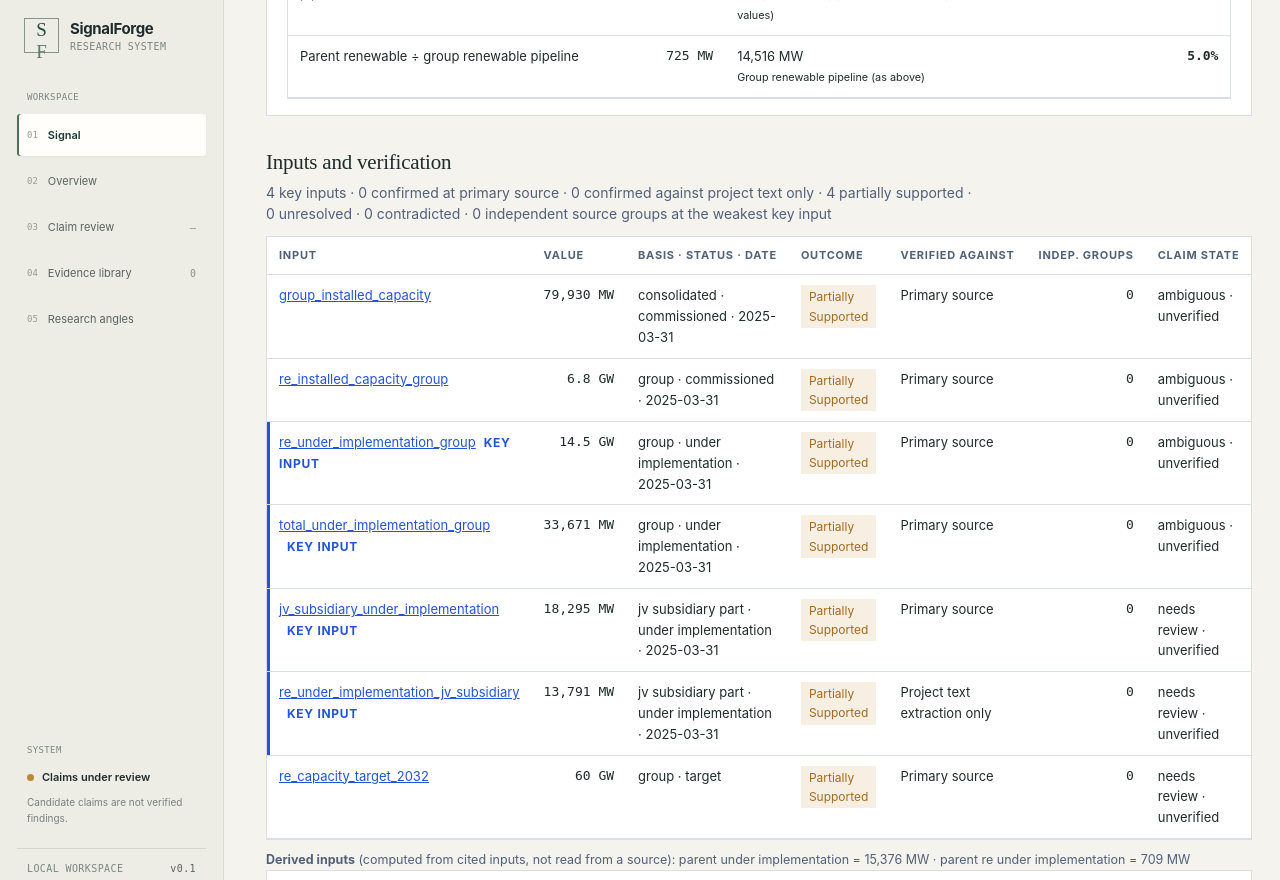
Test: Signal view › expands an input to its source citation and verification results
The image size is (1280, 880).
(page scrolled)
What coordinates should you click on to do the following:
click the button "re_under_implementation_group"
I would click on:
 (377, 442)
Its box is [279,432,476,453].
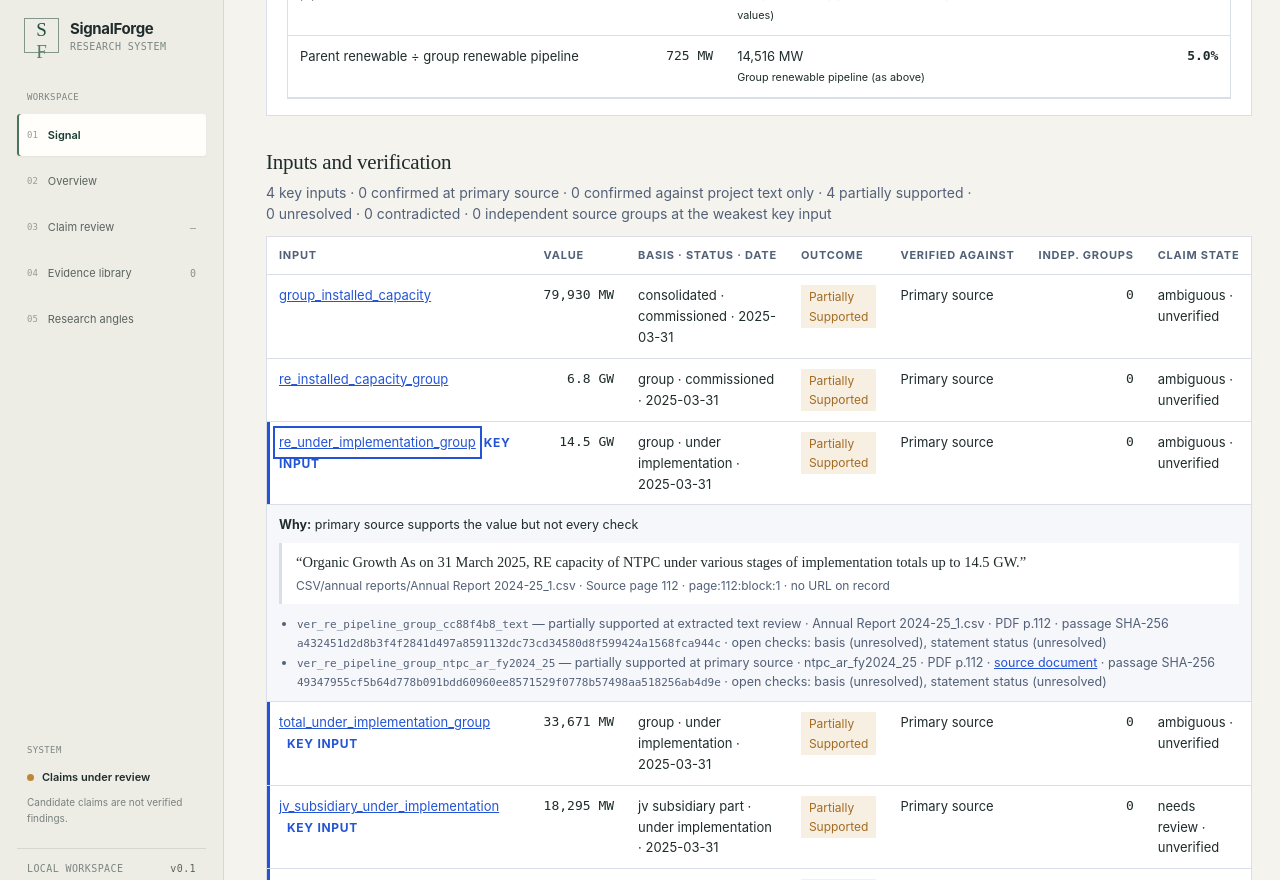
Expected: the text "primary source supports the value but not every check" is shown, [315,518,638,532]
Expected: the text "Organic Growth As on 31 March 2025, RE c" is shown, [302,554,1020,570]
Expected: the text "no URL on record" is shown, [780,578,890,593]
